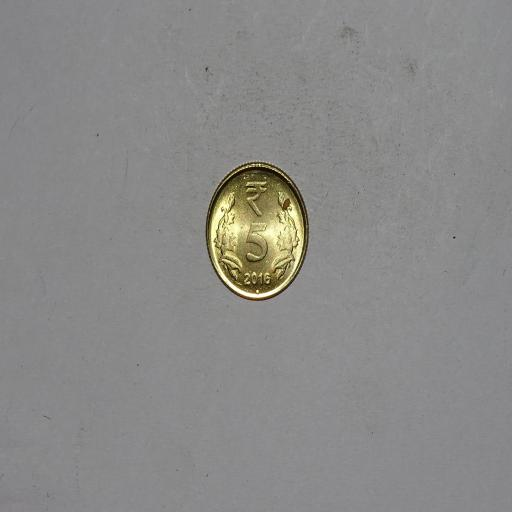rupee5: (200, 159, 311, 305)
